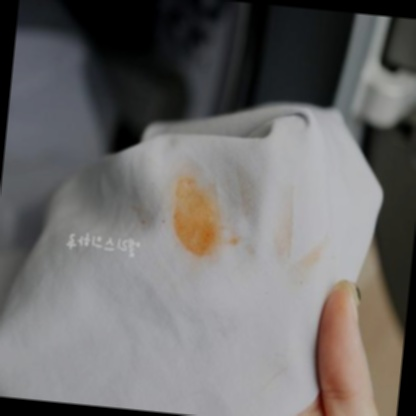kimchi: (165, 175, 236, 258), (262, 193, 308, 264), (289, 227, 330, 280), (225, 224, 249, 249), (134, 210, 150, 230), (158, 212, 167, 224)
